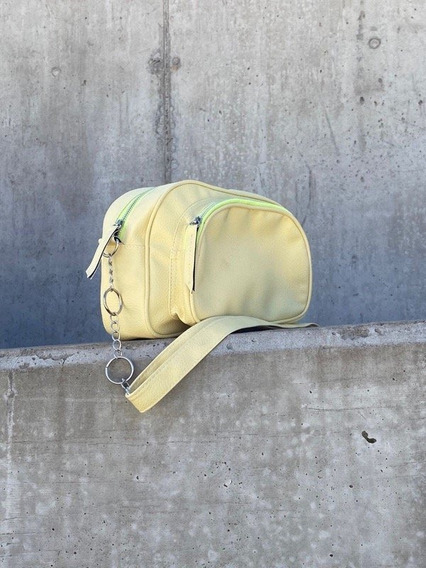cartera: (82, 176, 320, 336)
